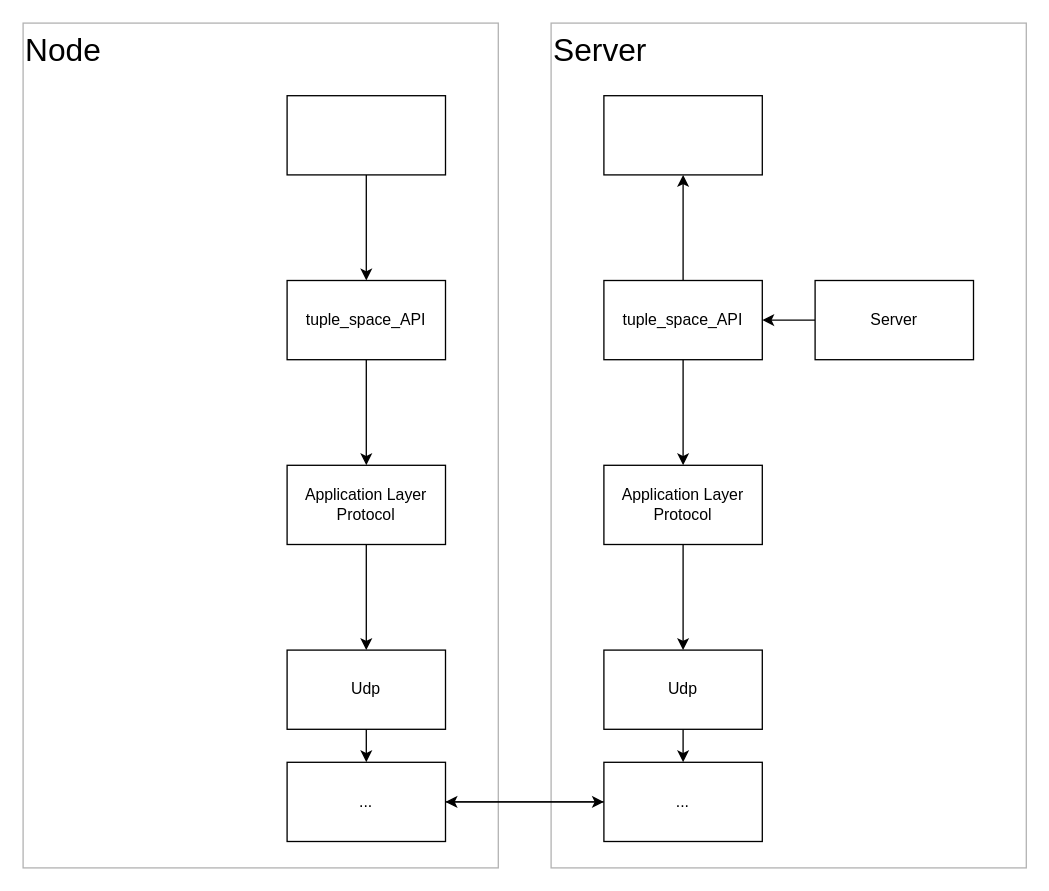
Some shapes in this 1049 by 891 pixel diagram are drawn without their labels. The centre of each missing label's shape, as x and y in pixels:
"App1/App2" belongs at point 366,134.
"Tuple Space" belongs at point 682,134.
